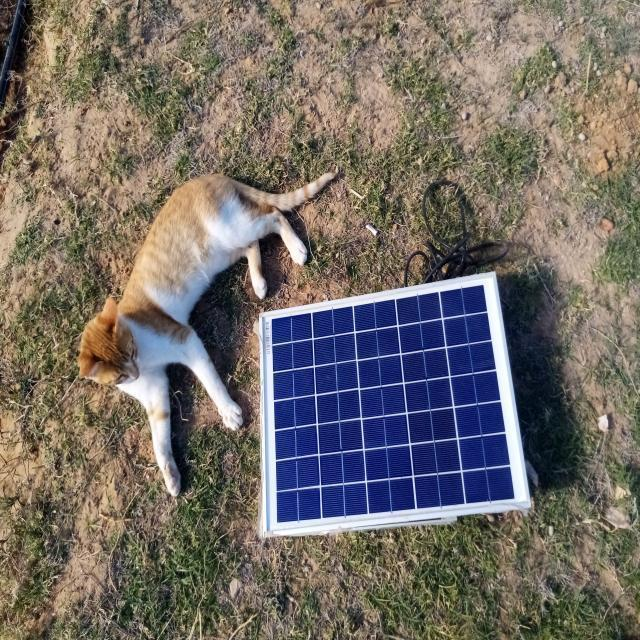Normal Solar Panel: (259, 270, 532, 538)
